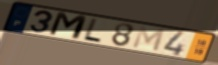3: (28, 10, 55, 35)
4: (162, 30, 186, 58)
8: (110, 23, 136, 47)
L: (81, 17, 103, 44)
M: (47, 11, 90, 42), (130, 25, 167, 53)
